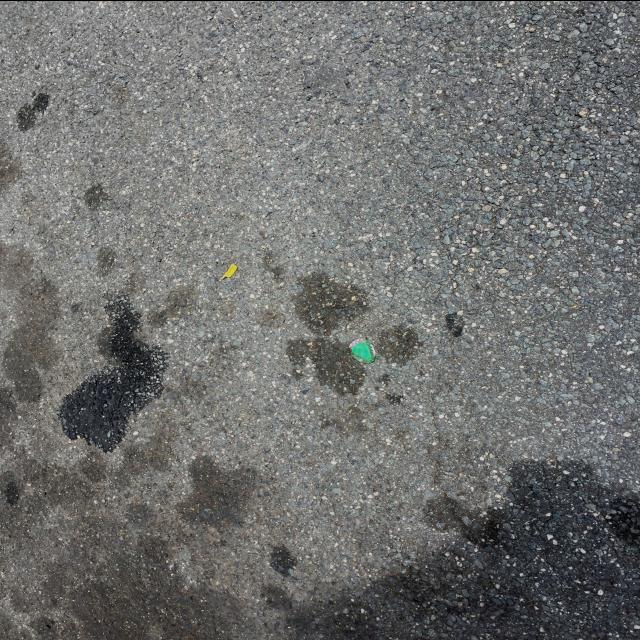Metal bottle cap: (349, 337, 375, 362)
Other plastic bottle: (221, 263, 238, 278)
